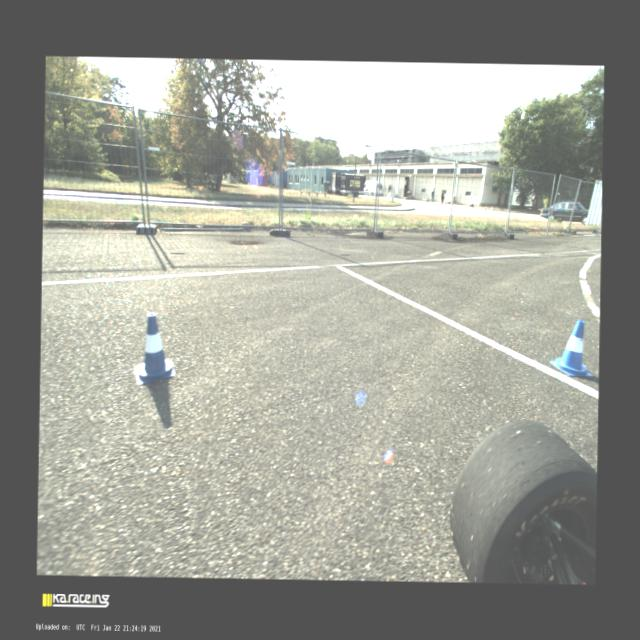blue_cone: (134, 312, 176, 384), (549, 319, 593, 376)
